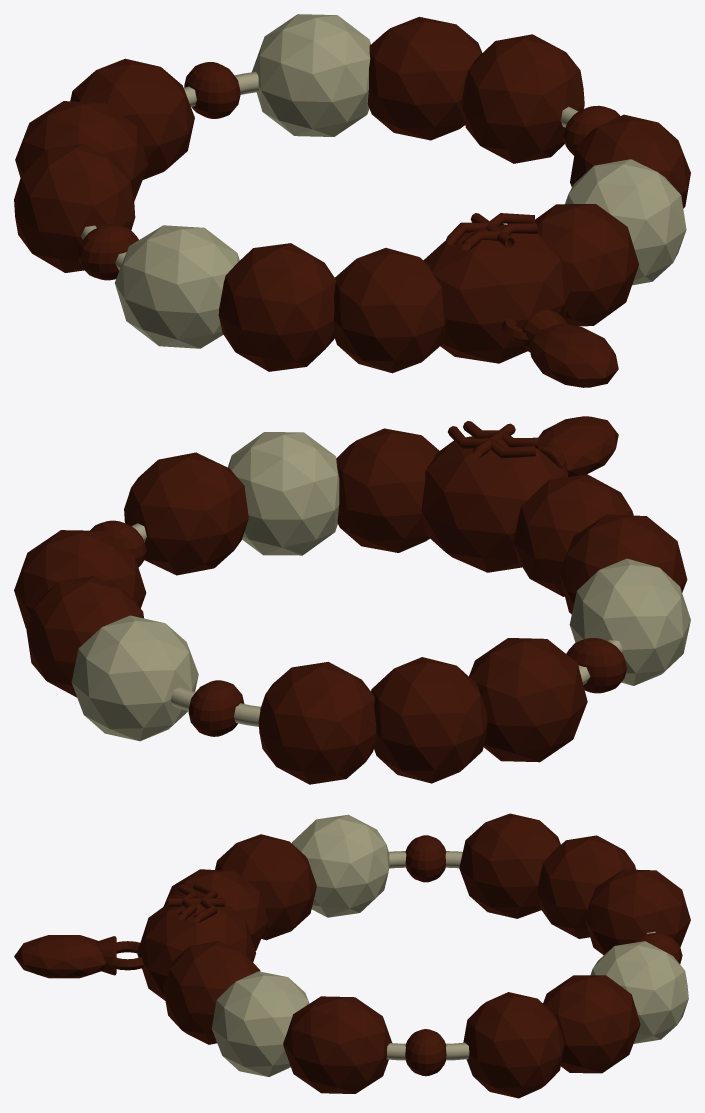
File: bracelet.fbx
3 views of the same model, one above another, from view 1: azimuth 30°, elevation 25°; view 2: azimuth 150°, elevation 25°; view 3: azimuth 270°, elevation 25° (orthographic). The views are drawn at different scales.
Visible parts, largest first — view 1: bracelet; view 2: bracelet; view 3: bracelet.
Boxes of the visible parts, x1,y1,x2,y2 form: bracelet: (14, 14, 690, 387); bracelet: (14, 416, 690, 784); bracelet: (14, 813, 690, 1098).
Size of the model in its own units: 78.17 by 17.56 by 100.
